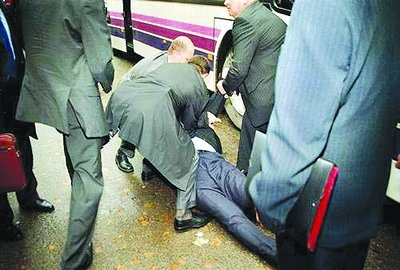falling: (170, 112, 277, 265)
